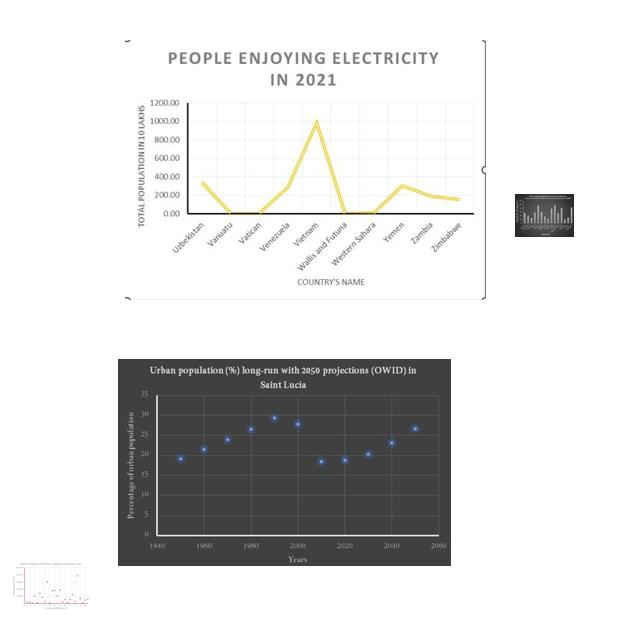Graph: (125, 40, 486, 300), (118, 359, 451, 566), (12, 562, 90, 610), (515, 194, 574, 237)
